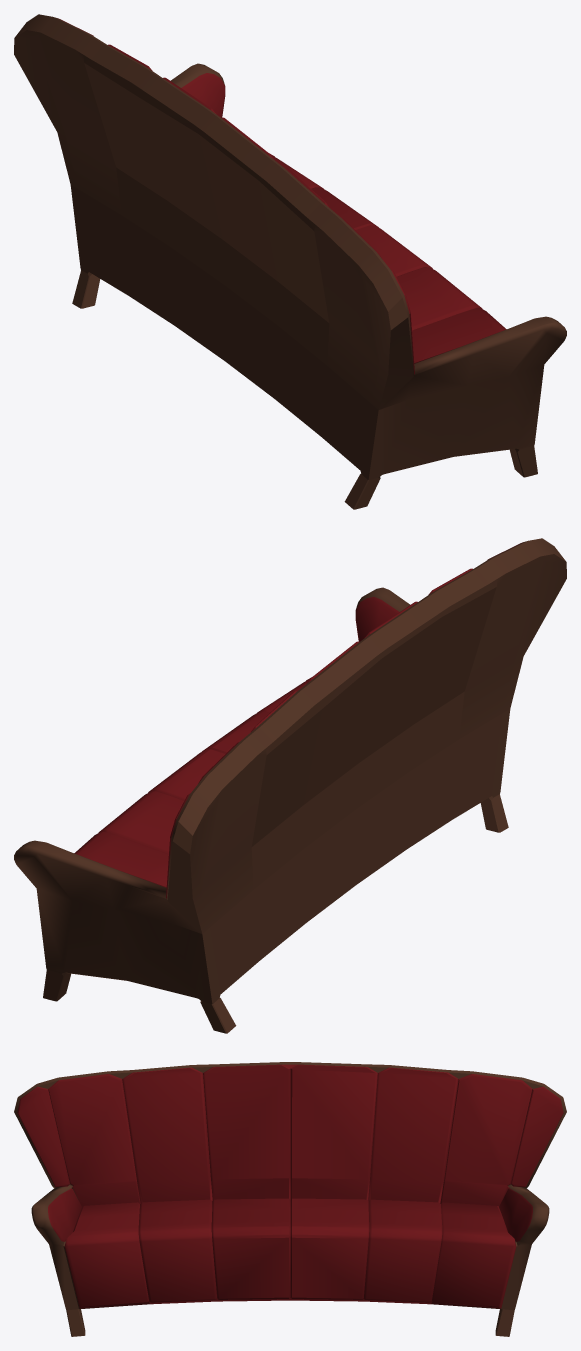
File: Library_Couch.fbx
The picture shows the model from 3 angles, top to bottom: view 1: azimuth 30°, elevation 25°; view 2: azimuth 150°, elevation 25°; view 3: azimuth 270°, elevation 25°; orthographic projection. The views are drawn at different scales.
Visible parts, largest first — view 1: LibraryCouchUVd:pCube5; view 2: LibraryCouchUVd:pCube5; view 3: LibraryCouchUVd:pCube5.
Boxes of the visible parts, box(x1,y1,x2,y2) form: LibraryCouchUVd:pCube5: box(14, 14, 566, 509); LibraryCouchUVd:pCube5: box(14, 538, 566, 1033); LibraryCouchUVd:pCube5: box(14, 1062, 566, 1336).
Size of the model in its own units: 1.08 by 1.57 by 3.7.
